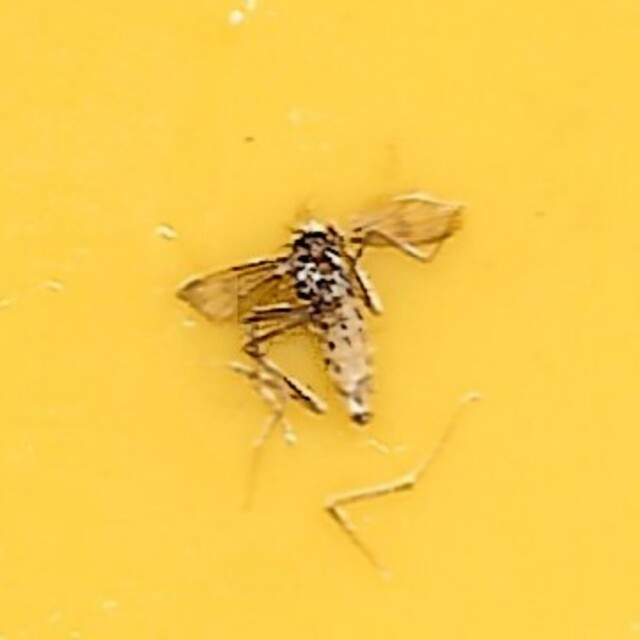Nematocera: (177, 196, 463, 444)
